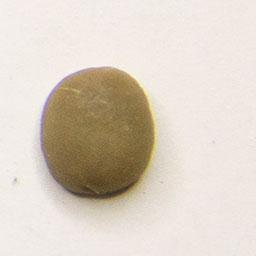premium: (36, 63, 159, 202)
